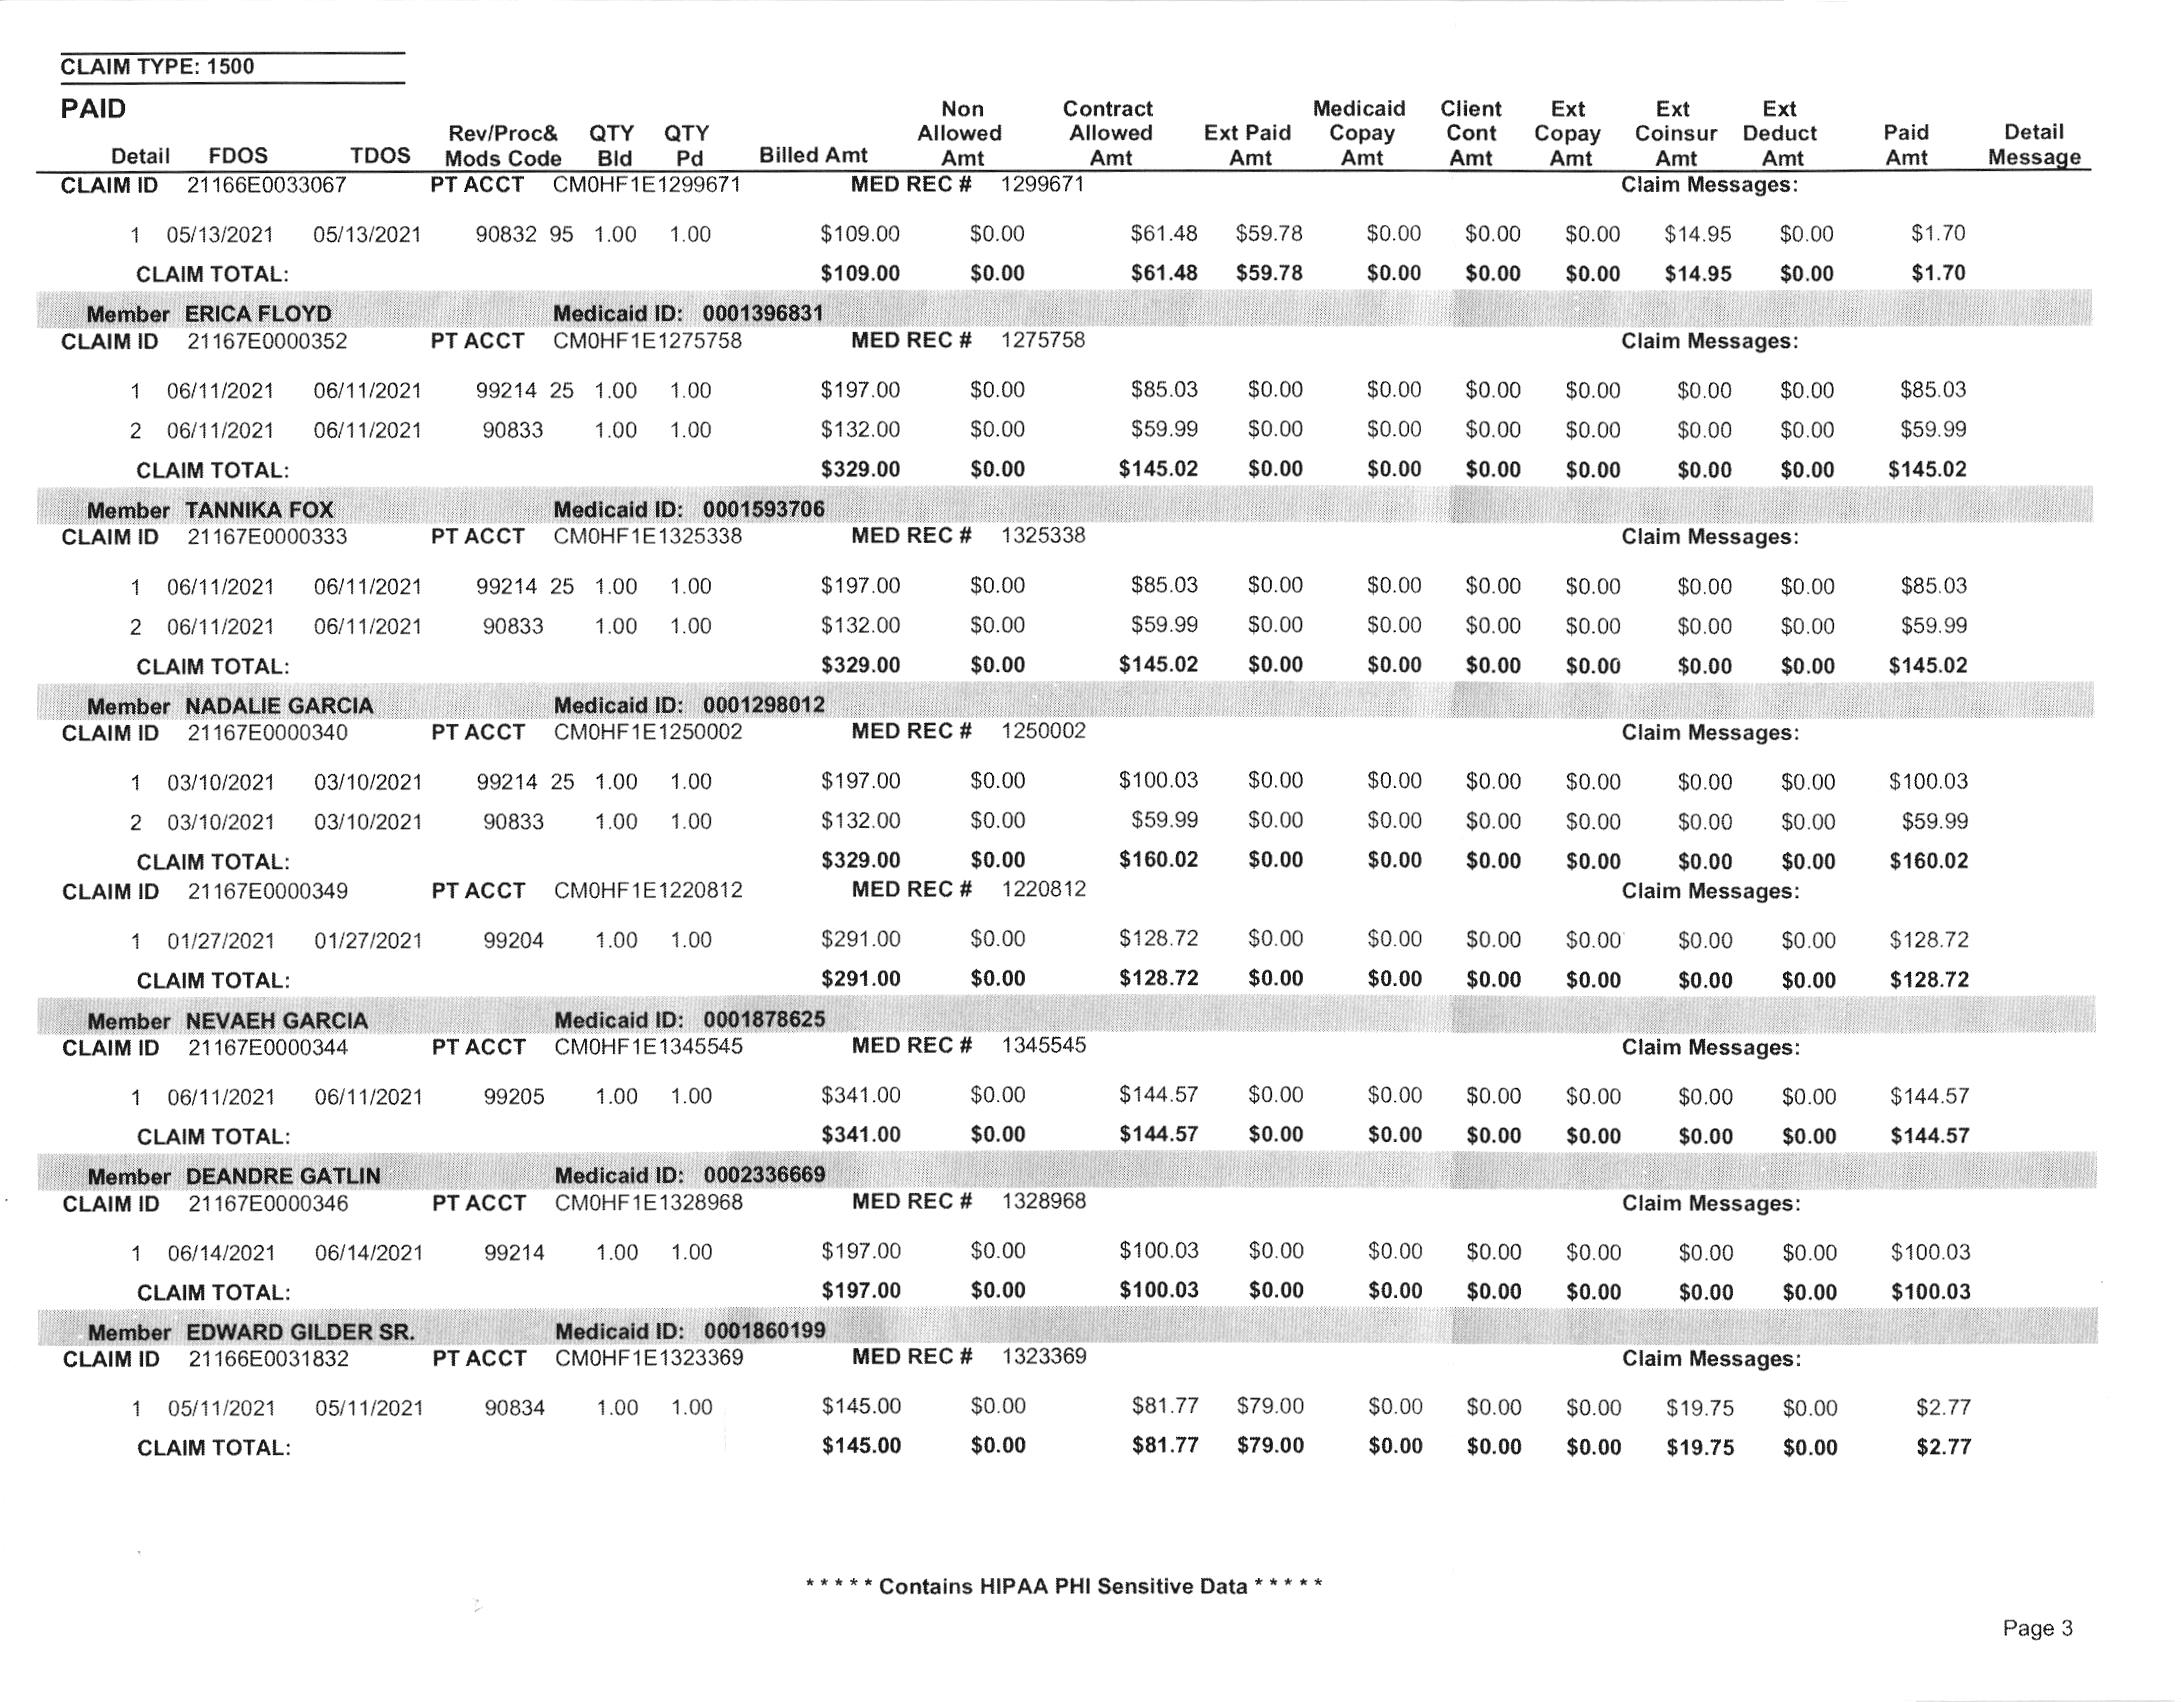table: (46, 78, 2107, 1484)
